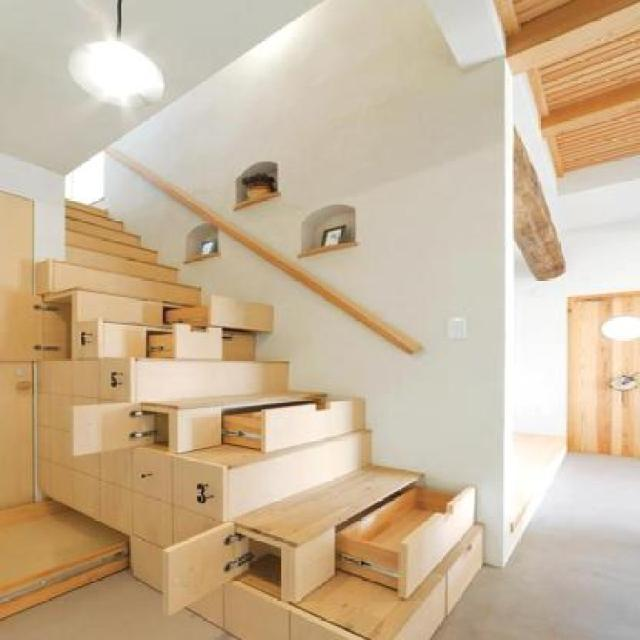stair: (0, 131, 551, 638)
